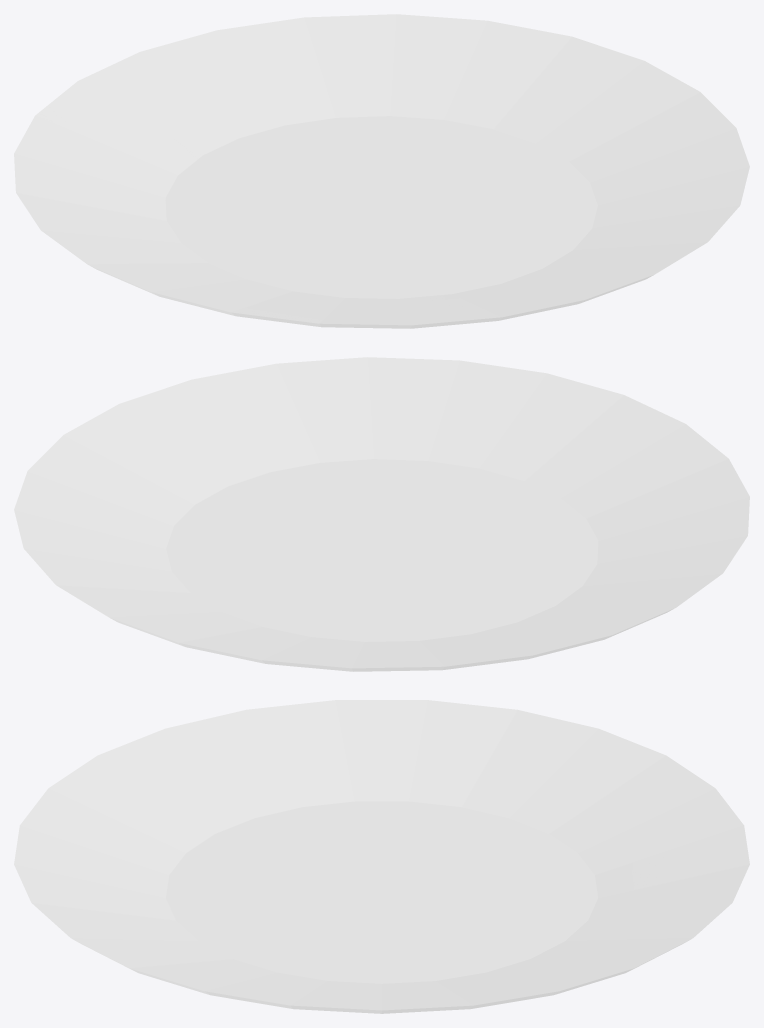
The model's file is Dish.fbx.
3 renders of one model, top to bottom at view 1: azimuth 30°, elevation 25°; view 2: azimuth 150°, elevation 25°; view 3: azimuth 270°, elevation 25°, orthographic.
Parts seen in each view (by area): view 1: Dish; view 2: Dish; view 3: Dish.
Part boxes in pixels (x1,y1,x2,y2): Dish: (14, 14, 749, 328); Dish: (14, 357, 749, 671); Dish: (14, 700, 749, 1013).
Bounding box in the file's own units: 7.35 × 0.7402 × 7.36.
1 material, 1 textured.
